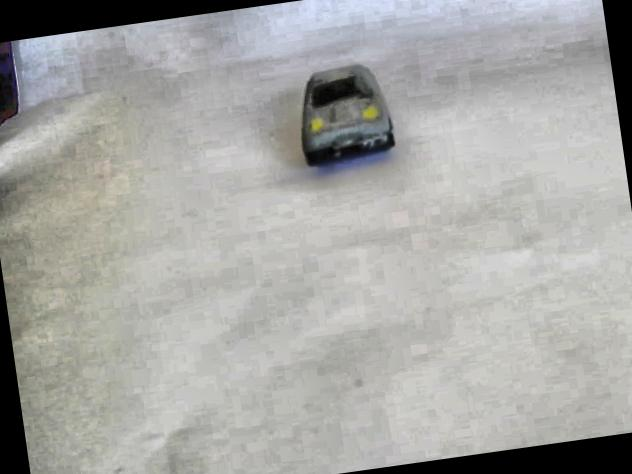normal_car: (288, 56, 401, 169)
